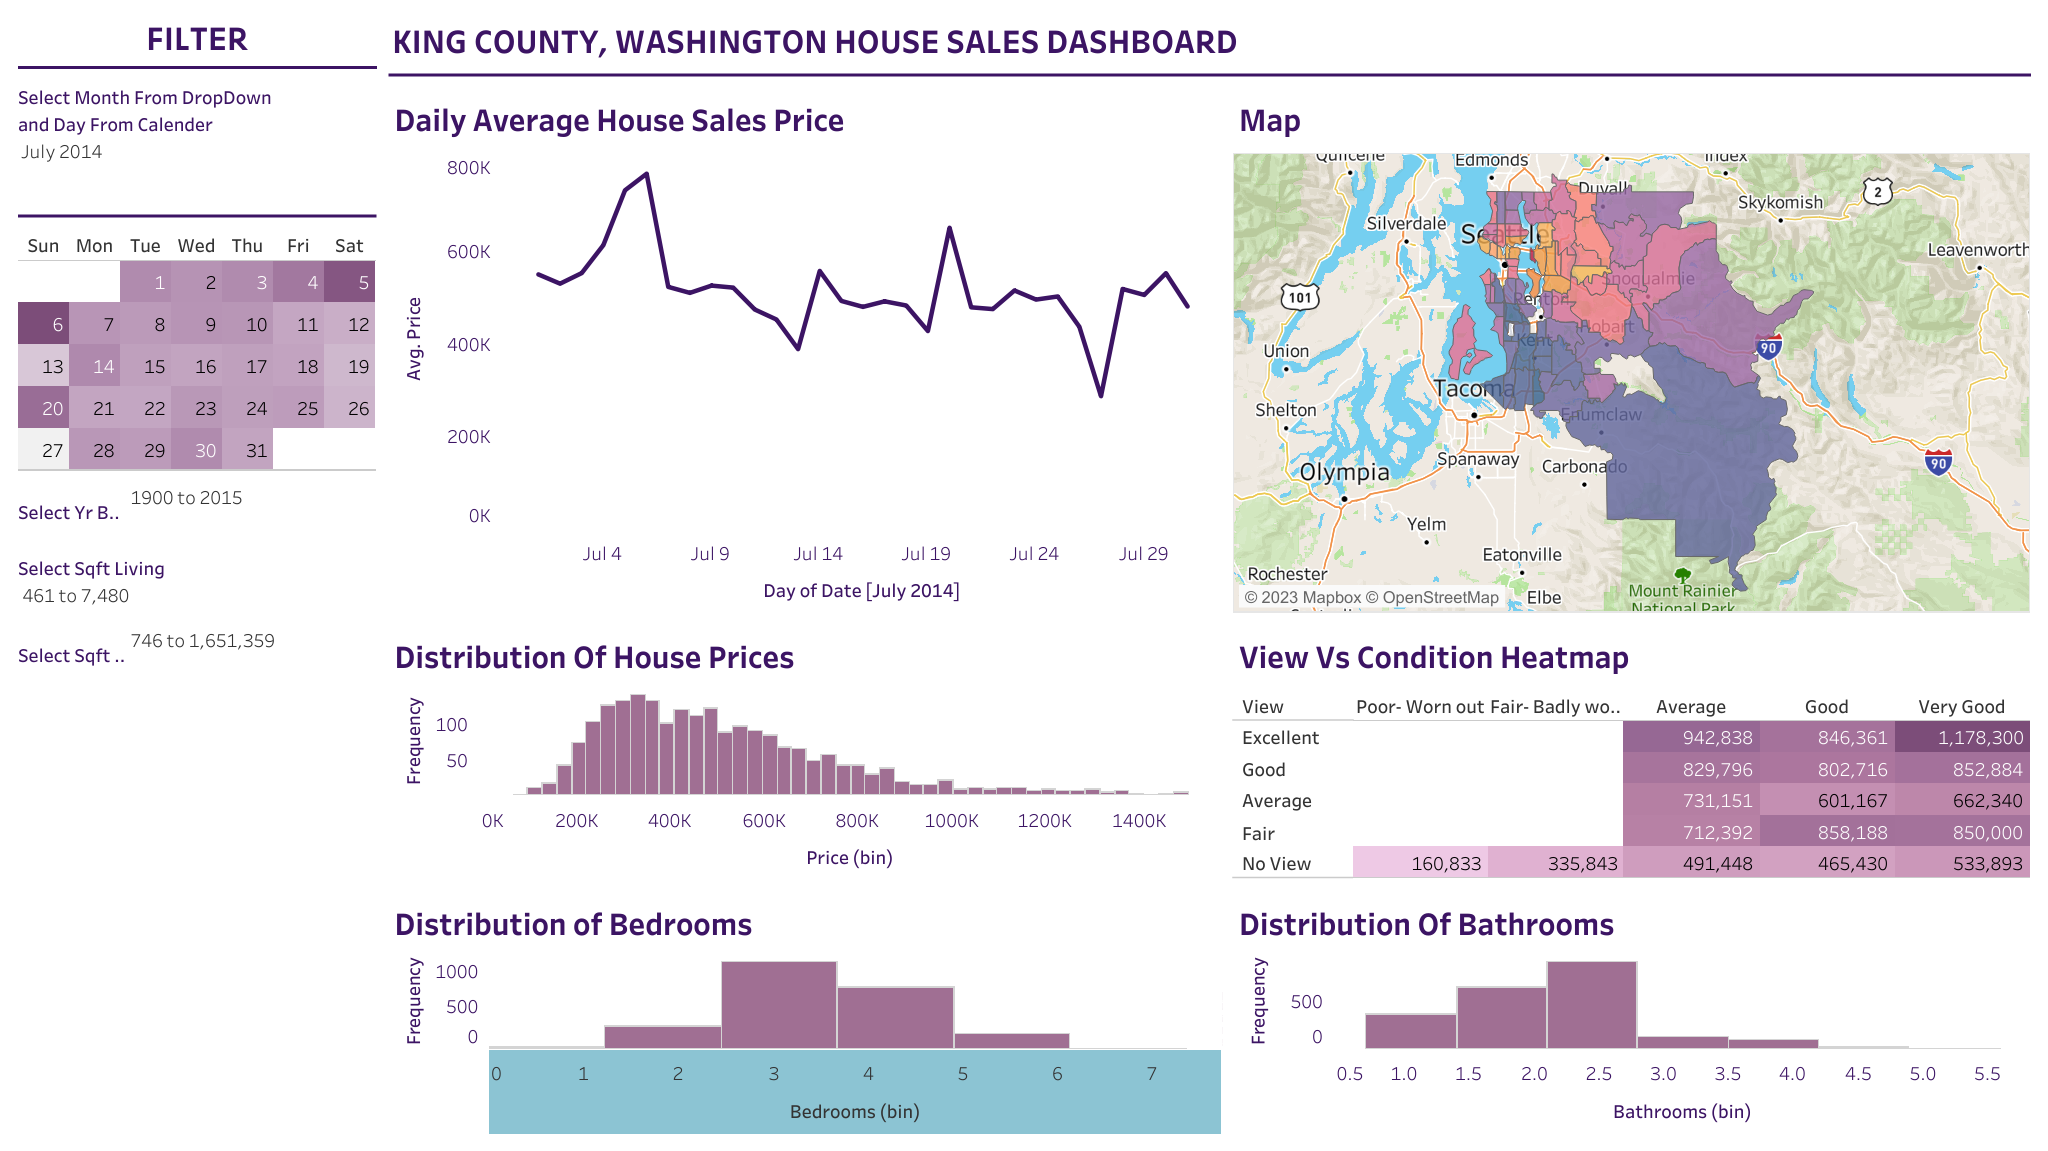

What the dashboard file says about the page in this screenshot:
{"tool":"tableau","page":{"name":"King County House Sales","canvas":[1000,1000],"units":"permille","ordinal":0},"visuals":[{"type":"text","box":[5,9.8,181.1,59.9]},{"type":"text","box":[186.1,9.8,809,63.6]},{"type":"blank","box":[5,69.7,181.1,12.2]},{"type":"blank","box":[186.1,73.4,809,12.2]},{"type":"filter","title":"Calender","param":"[federated.1ludg0j1d5yssq1byds6h067prld].[my:date:ok]","box":[5,81.9,181.1,108.8]},{"type":"worksheet","title":"line chart","mark":"Automatic","rows":["price"],"cols":["date"],"box":[186.1,85.6,413.2,452.3]},{"type":"worksheet","title":"map","mark":"Automatic","box":[599.2,85.6,395.8,452.3]},{"type":"blank","box":[5,190.7,181.1,12.2]},{"type":"worksheet","title":"Calender","mark":"Square","rows":["date"],"cols":["date"],"box":[5,202.9,181.1,218.8]},{"type":"filter","title":"Calender","param":"[federated.1ludg0j1d5yssq1byds6h067prld].[none:yr_built:qk]","box":[5,421.8,181.1,56.2]},{"type":"filter","title":"Calender","param":"[federated.1ludg0j1d5yssq1byds6h067prld].[none:sqft_living:qk]","box":[5,478,181.1,59.9]},{"type":"filter","title":"Calender","param":"[federated.1ludg0j1d5yssq1byds6h067prld].[none:sqft_lot:qk]","box":[5,537.9,181.1,56.2]},{"type":"worksheet","title":"histogram","mark":"Automatic","rows":["price"],"cols":["Price (bin)"],"box":[186.1,537.9,413.2,232.3]},{"type":"worksheet","title":"heatmap","mark":"Square","rows":["view"],"cols":["condition"],"box":[599.2,537.9,395.8,232.3]},{"type":"worksheet","title":"histbedroom","mark":"Automatic","rows":["bedrooms"],"cols":["Bedrooms (bin)"],"box":[186.1,770.2,413.2,220.1]},{"type":"worksheet","title":"histbathroom","mark":"Automatic","rows":["bathrooms"],"cols":["Bathrooms (bin)"],"box":[599.2,770.2,395.8,220.1]}]}

Visuals, with their boxes on the dashboard's canvas, which has no fixed pixel size, in thousandths of its width and height (x1, y1, x2, y2). These are canvas units, not pixel positions in the 2048x1151 screenshot, which may show the page scaled, cropped or inside an application window:
text: region(5, 10, 186, 70)
text: region(186, 10, 995, 73)
blank: region(5, 70, 186, 82)
blank: region(186, 73, 995, 86)
"Calender" filter: region(5, 82, 186, 191)
"line chart" worksheet: region(186, 86, 599, 538)
"map" worksheet: region(599, 86, 995, 538)
blank: region(5, 191, 186, 203)
"Calender" worksheet (Square marks): region(5, 203, 186, 422)
"Calender" filter: region(5, 422, 186, 478)
"Calender" filter: region(5, 478, 186, 538)
"Calender" filter: region(5, 538, 186, 594)
"histogram" worksheet: region(186, 538, 599, 770)
"heatmap" worksheet (Square marks): region(599, 538, 995, 770)
"histbedroom" worksheet: region(186, 770, 599, 990)
"histbathroom" worksheet: region(599, 770, 995, 990)
